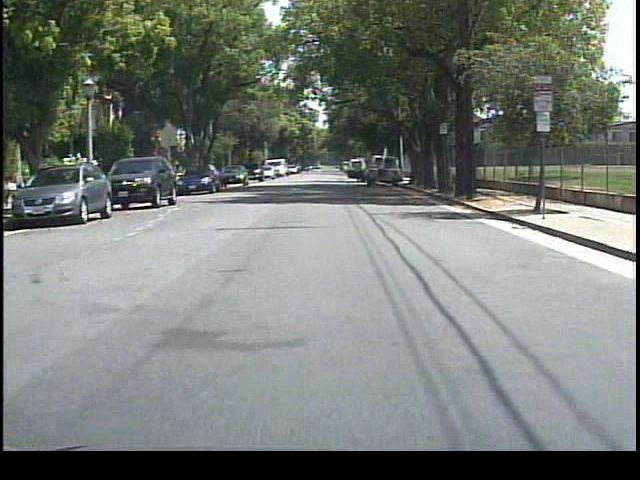person: (350, 160, 366, 186)
